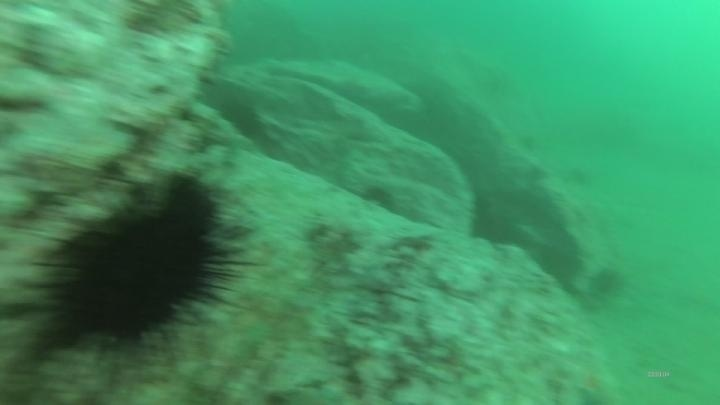echinus: (37, 199, 234, 355), (159, 171, 224, 239)
